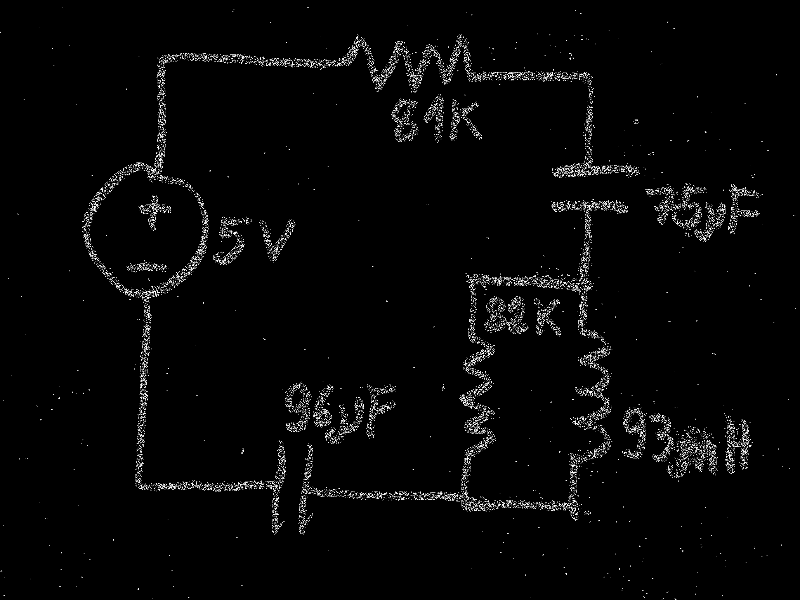1: (421, 92, 447, 147)
2: (507, 294, 530, 335)
3: (647, 412, 674, 463)
5: (212, 212, 253, 268), (679, 178, 706, 233)
6: (312, 382, 334, 429)
7: (643, 183, 680, 230)
8: (389, 96, 420, 144), (482, 294, 507, 334)
9: (279, 381, 312, 434), (619, 406, 647, 460)
F: (365, 382, 397, 439), (728, 183, 761, 237)
H: (722, 412, 752, 475)
V: (255, 217, 298, 265)
k: (449, 95, 485, 147), (533, 297, 563, 339)
m: (675, 436, 719, 478)
u: (333, 397, 365, 444), (704, 202, 726, 241)
